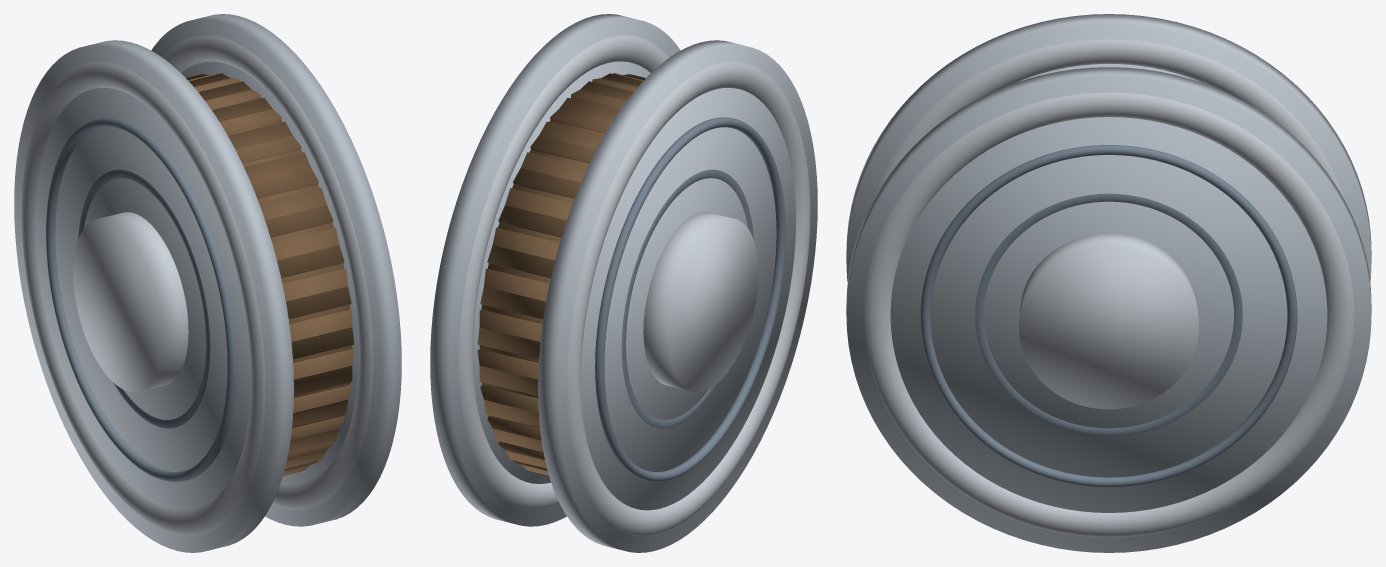
File: alstom_disc.glb
3 views of the same model, side by side, from view 1: azimuth 30°, elevation 25°; view 2: azimuth 150°, elevation 25°; view 3: azimuth 270°, elevation 25° (orthographic).
Visible parts, largest first — view 1: Pista izquierda, Pista derecha, Pista izquierda borde exterior, Cubo izquierdo, Pista derecha borde exterior, Pista izquierda canal de desgaste, Canal ventilacion 14, Canal ventilacion 13, Pista izquierda borde interior, Canal ventilacion 15, Canal ventilacion 12, Canal ventilacion 16 (+8 smaller); view 2: Pista izquierda, Pista derecha, Pista izquierda borde exterior, Cubo izquierdo, Pista derecha borde exterior, Pista izquierda canal de desgaste, Canal ventilacion 03, Canal ventilacion 04, Pista izquierda borde interior, Canal ventilacion 02, Canal ventilacion 05, Canal ventilacion 01 (+8 smaller); view 3: Pista derecha, Pista derecha borde exterior, Cubo derecho, Pista izquierda, Pista derecha canal de desgaste, Pista izquierda borde exterior, Pista derecha borde interior.
Part boxes in pixels (x1=…): Pista izquierda: x1=14, y1=40, x2=293, y2=552; Pista derecha: x1=151, y1=14, x2=401, y2=526; Pista izquierda borde exterior: x1=21, y1=61, x2=265, y2=536; Cubo izquierdo: x1=73, y1=212, x2=188, y2=392; Pista derecha borde exterior: x1=163, y1=35, x2=373, y2=509; Pista izquierda canal de desgaste: x1=46, y1=117, x2=236, y2=481; Canal ventilacion 14: x1=272, y1=227, x2=351, y2=319; Canal ventilacion 13: x1=259, y1=188, x2=344, y2=278; Pista izquierda borde interior: x1=78, y1=169, x2=210, y2=428; Canal ventilacion 15: x1=282, y1=268, x2=354, y2=359; Canal ventilacion 12: x1=244, y1=152, x2=333, y2=237; Canal ventilacion 16: x1=289, y1=309, x2=352, y2=395; Pista izquierda: x1=538, y1=40, x2=817, y2=552; Pista derecha: x1=430, y1=14, x2=680, y2=526; Pista izquierda borde exterior: x1=566, y1=61, x2=810, y2=536; Cubo izquierdo: x1=643, y1=212, x2=758, y2=392; Pista derecha borde exterior: x1=458, y1=35, x2=668, y2=509; Pista izquierda canal de desgaste: x1=595, y1=117, x2=785, y2=481; Canal ventilacion 03: x1=480, y1=227, x2=559, y2=319; Canal ventilacion 04: x1=487, y1=188, x2=572, y2=278; Pista izquierda borde interior: x1=621, y1=169, x2=753, y2=428; Canal ventilacion 02: x1=477, y1=268, x2=549, y2=359; Canal ventilacion 05: x1=498, y1=152, x2=587, y2=237; Canal ventilacion 01: x1=479, y1=309, x2=542, y2=395; Pista derecha: x1=846, y1=67, x2=1371, y2=552; Pista derecha borde exterior: x1=863, y1=92, x2=1354, y2=537; Cubo derecho: x1=1019, y1=233, x2=1198, y2=409; Pista izquierda: x1=846, y1=14, x2=1371, y2=281; Pista derecha canal de desgaste: x1=920, y1=145, x2=1297, y2=487; Pista izquierda borde exterior: x1=873, y1=39, x2=1344, y2=199; Pista derecha borde interior: x1=975, y1=193, x2=1242, y2=436.
Size of the model in its own units: 1.17 by 2.92 by 2.92.
